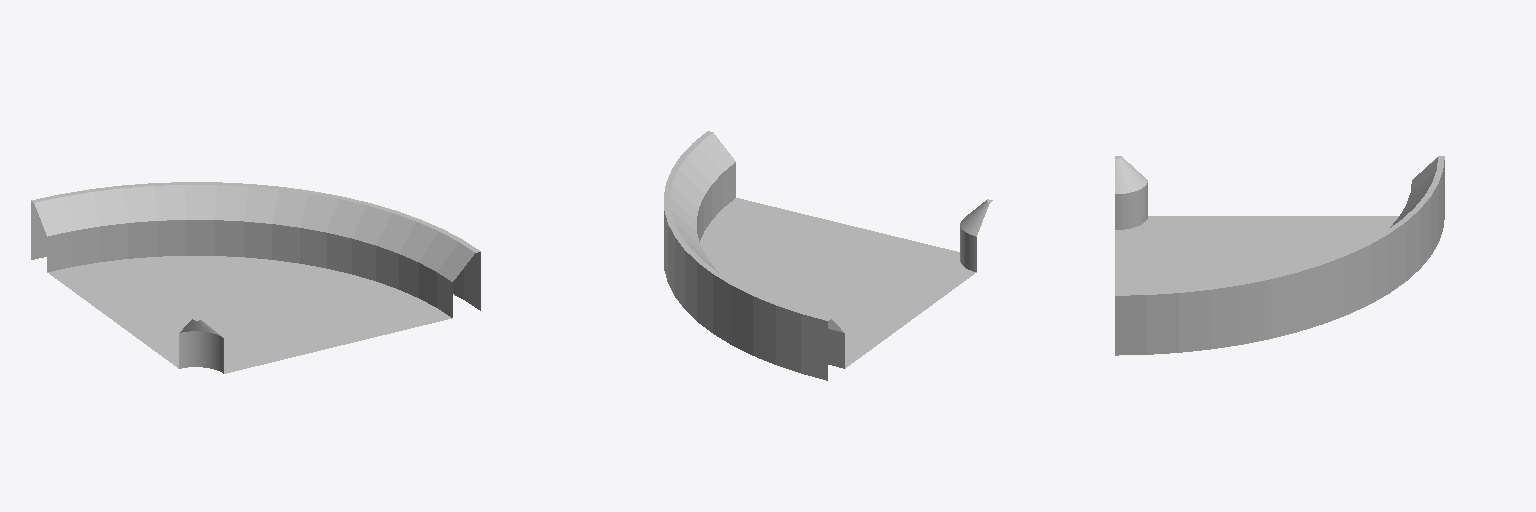
Rendered from trackpiece5.obj.
3 renders of one model, left to right at view 1: azimuth 30°, elevation 25°; view 2: azimuth 150°, elevation 25°; view 3: azimuth 270°, elevation 25°, orthographic.
Parts seen in each view (by area): view 1: Plane.001_Plane.003; view 2: Plane.001_Plane.003; view 3: Plane.001_Plane.003.
Part boxes in pixels (x1,y1,x2,y2): Plane.001_Plane.003: (31, 182, 480, 373); Plane.001_Plane.003: (664, 131, 992, 380); Plane.001_Plane.003: (1115, 156, 1444, 355).
Size of the model in its own units: 1 by 0.2 by 1.